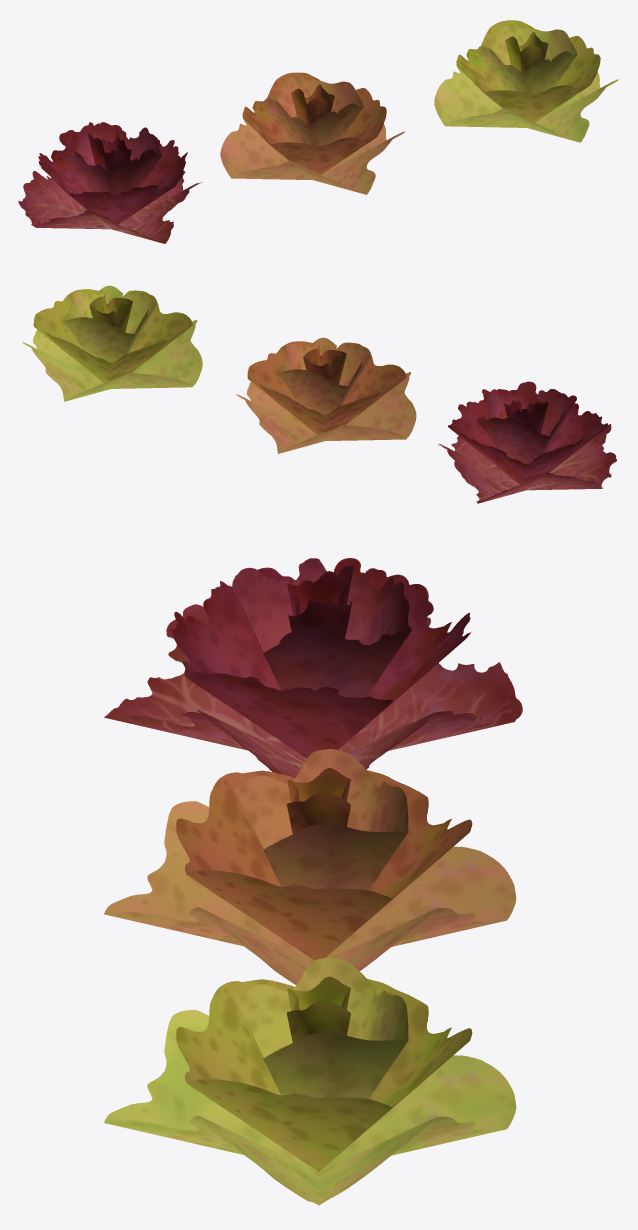
Rendered from lettuce.fbx.
3 renders of one model, top to bottom at view 1: azimuth 30°, elevation 25°; view 2: azimuth 150°, elevation 25°; view 3: azimuth 270°, elevation 25°, orthographic. The views are drawn at different scales.
Visible parts, largest first — view 1: lettuce_dark, lettuce_medium, lettuce_light; view 2: lettuce_dark, lettuce_medium, lettuce_light; view 3: lettuce_dark, lettuce_medium, lettuce_light.
Boxes of the visible parts, left/top/right/bottom form: lettuce_dark: left=434, top=20, right=618, bottom=142; lettuce_medium: left=220, top=72, right=404, bottom=194; lettuce_light: left=18, top=122, right=201, bottom=243; lettuce_dark: left=22, top=285, right=202, bottom=401; lettuce_medium: left=236, top=337, right=416, bottom=453; lettuce_light: left=438, top=381, right=616, bottom=503; lettuce_dark: left=104, top=957, right=516, bottom=1205; lettuce_medium: left=104, top=749, right=516, bottom=984; lettuce_light: left=104, top=558, right=522, bottom=777.
Size of the model in its own units: 1.07 by 0.1627 by 0.3407.
